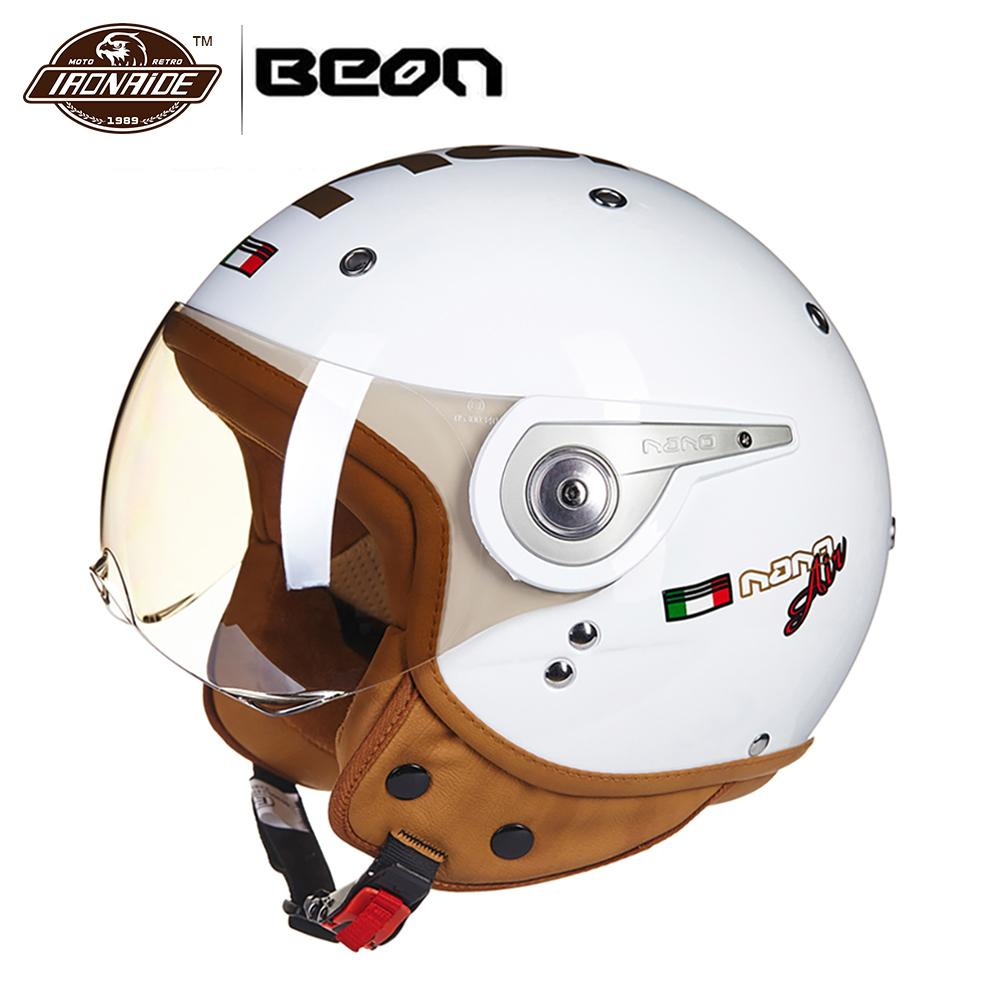with_helmet: (99, 129, 893, 814)
